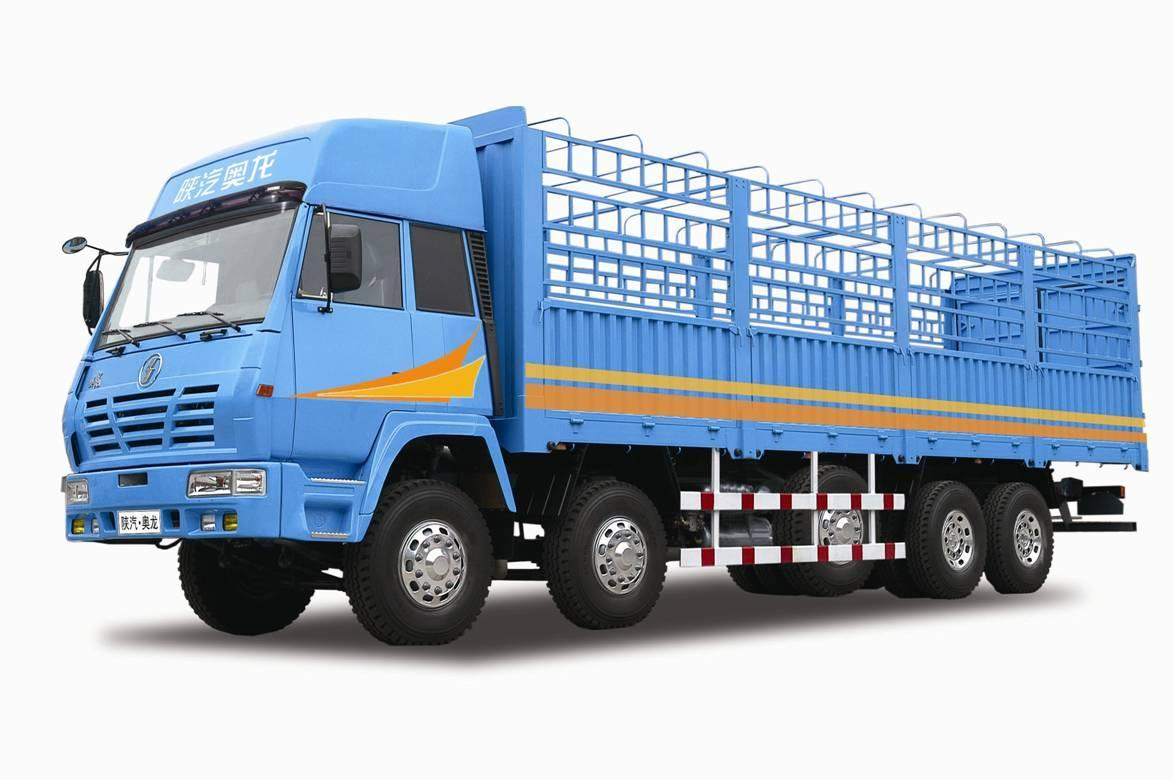truck: (58, 103, 1150, 646)
